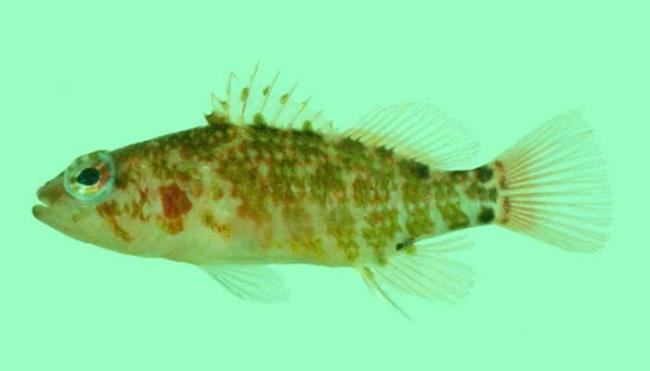fish: (32, 55, 611, 322)
